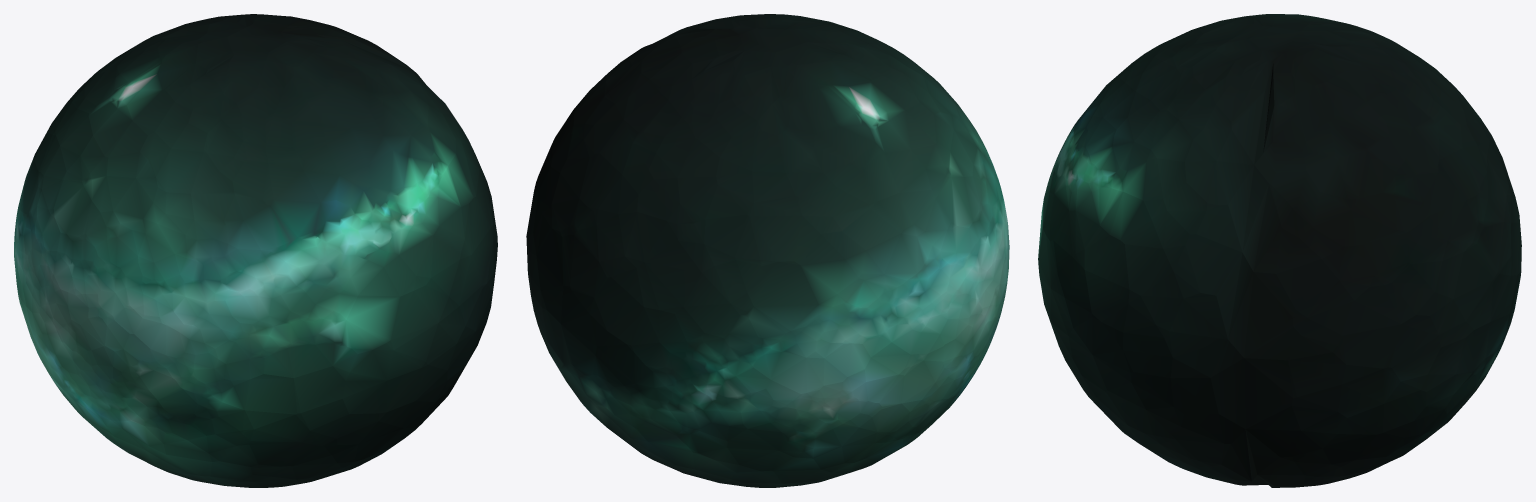
3 views of the same model, side by side, from view 1: azimuth 30°, elevation 25°; view 2: azimuth 150°, elevation 25°; view 3: azimuth 270°, elevation 25° (orthographic).
Parts seen in each view (by area): view 1: Curve.004; view 2: Curve.004; view 3: Curve.004.
Boxes of the visible parts, x1,y1,x2,y2 form: Curve.004: (14,14,497,487); Curve.004: (526,14,1009,487); Curve.004: (1038,14,1521,487).
Bounding box in the file's own units: 857 × 825 × 856.
